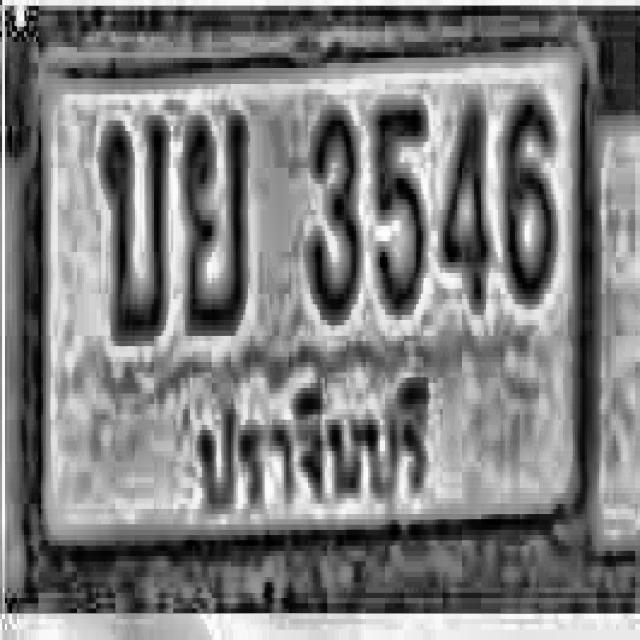license-plate: (22, 0, 590, 609)
